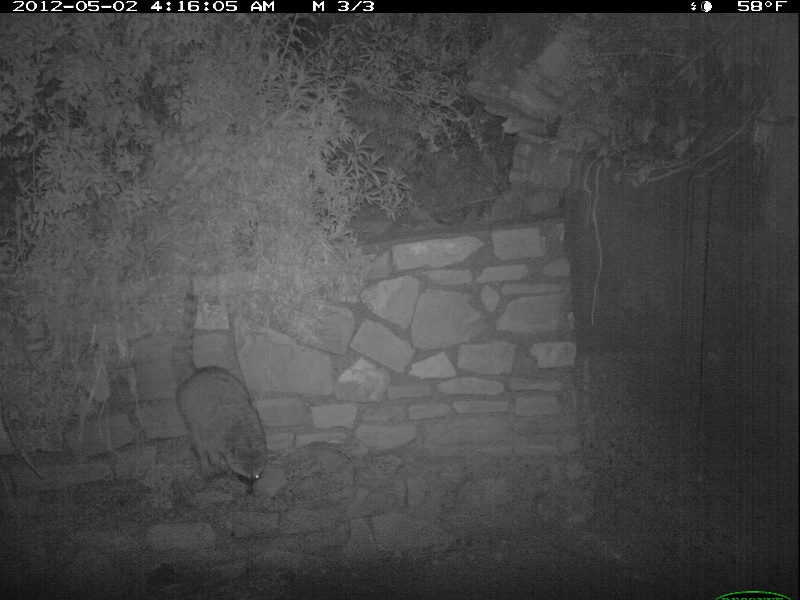raccoon: (174, 292, 274, 490)
